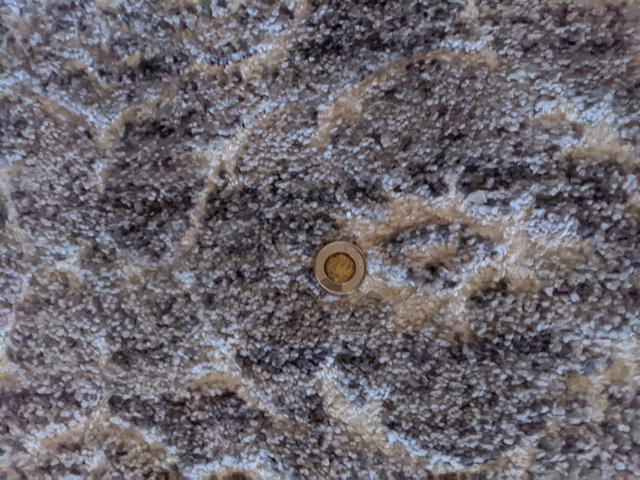twonie: (307, 236, 365, 293)
